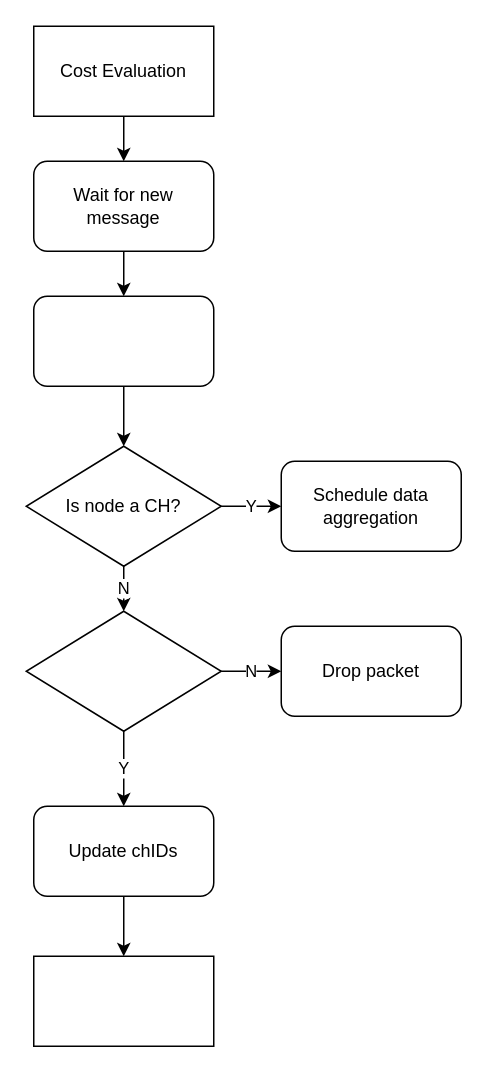
Some shapes in this 488 by 1073 pixel diagram are drawn without their labels. The box of each missing label's shape, as (x1, y1, x2, y2) in pixels:
Check prerequisites before cost evaluating: (32, 295, 214, 386)
Is node the destination?: (25, 610, 221, 731)
Proceed to findMyBest block: (32, 955, 214, 1046)
